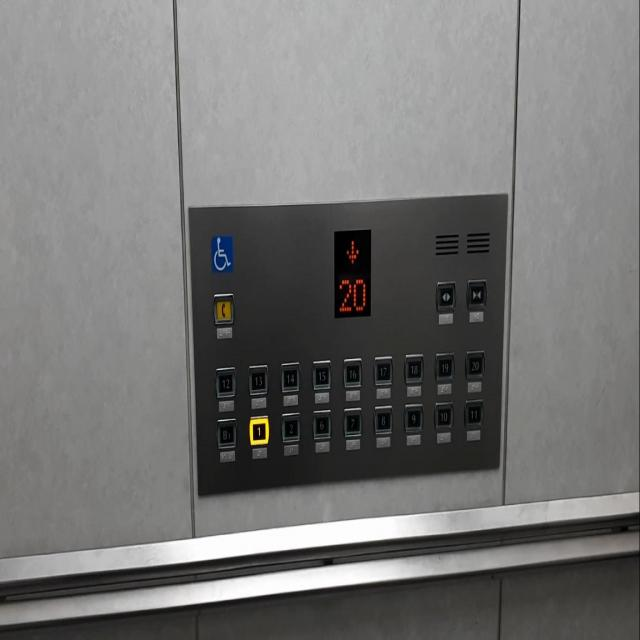1: (248, 414, 270, 445)
10: (433, 398, 453, 431)
11: (462, 397, 484, 429)
12: (214, 364, 237, 400)
13: (247, 363, 268, 397)
14: (280, 361, 300, 393)
15: (311, 358, 332, 390)
16: (342, 356, 362, 387)
17: (372, 353, 393, 386)
18: (404, 351, 424, 384)
19: (433, 348, 455, 384)
2: (281, 411, 300, 442)
20: (463, 346, 486, 382)
6: (311, 408, 332, 440)
7: (342, 406, 363, 437)
8: (372, 404, 392, 437)
9: (403, 401, 423, 434)
B1: (216, 416, 237, 448)
CH: (210, 232, 234, 274)
call: (212, 290, 236, 326)
close: (465, 276, 488, 312)
led: (332, 227, 372, 319)
open: (435, 278, 458, 314)
